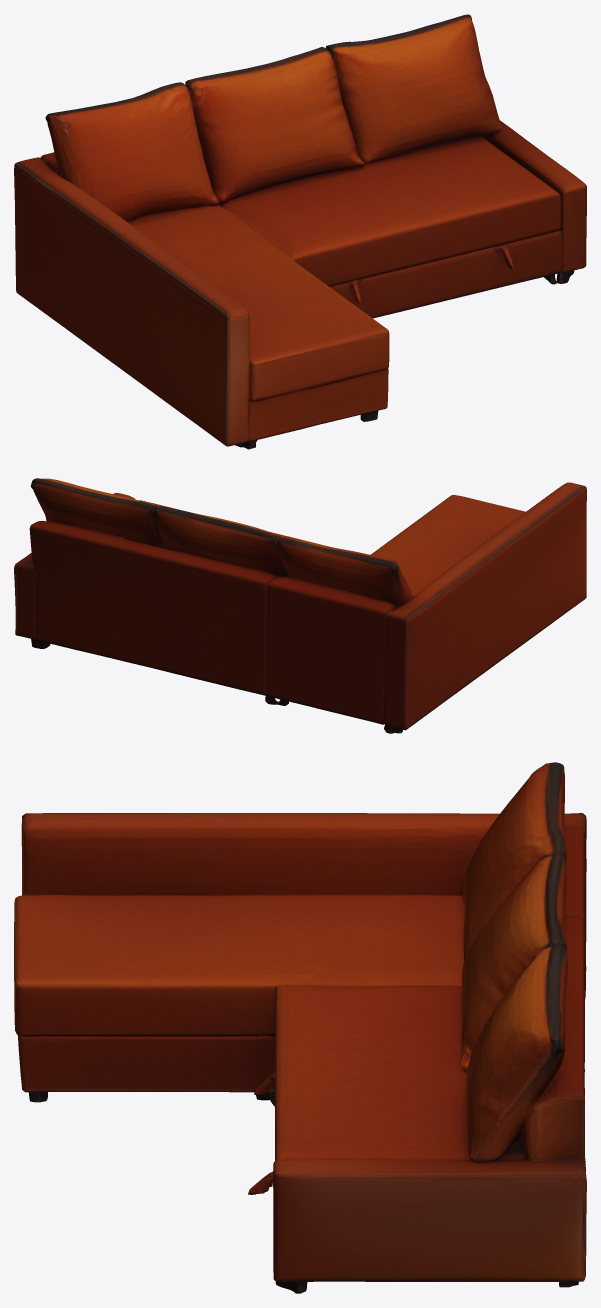
The picture shows the model from 3 angles, top to bottom: view 1: azimuth 30°, elevation 25°; view 2: azimuth 150°, elevation 25°; view 3: azimuth 270°, elevation 25°; orthographic projection. The views are drawn at different scales.
Visible parts, largest first — view 1: geometry_0; view 2: geometry_0; view 3: geometry_0.
Boxes of the visible parts, x1,y1,x2,y2 form: geometry_0: (14,14,586,449); geometry_0: (14,478,586,733); geometry_0: (14,762,586,1293).
Bounding box in the file's own units: 0.9846 × 0.3963 × 0.7992.
1 material, 1 textured.
